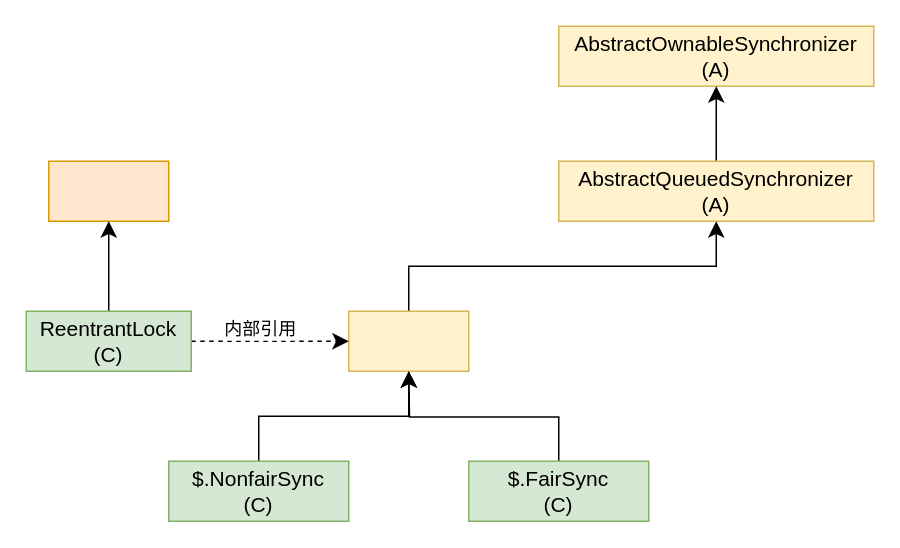
Some shapes in this 900 by 548 pixel diagram are drawn without their labels. Here are the shapes that lost their labels. From the top down, the centre of each, then its label:
At pixel 108 190: "Lock (I)".
At pixel 408 340: "$.Sync (A)".
